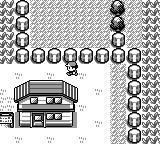captura: (142, 0, 160, 144), (0, 0, 14, 64)
leer: (0, 112, 14, 128)
main: (65, 61, 78, 76)
no-caminable: (14, 0, 142, 143), (14, 79, 78, 127), (110, 0, 126, 32)
puerta: (32, 113, 44, 127)
